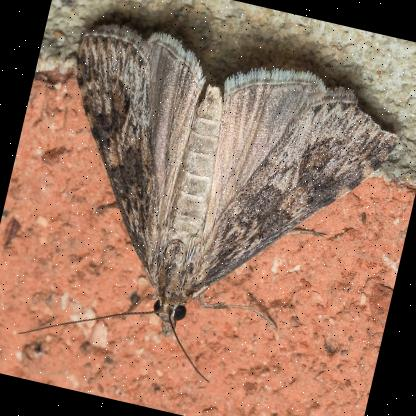Fall Armyworm Moth: (4, 7, 416, 416)
